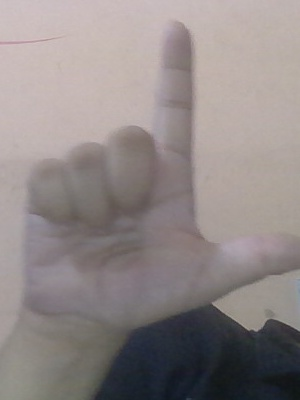L: (39, 13, 300, 346)
